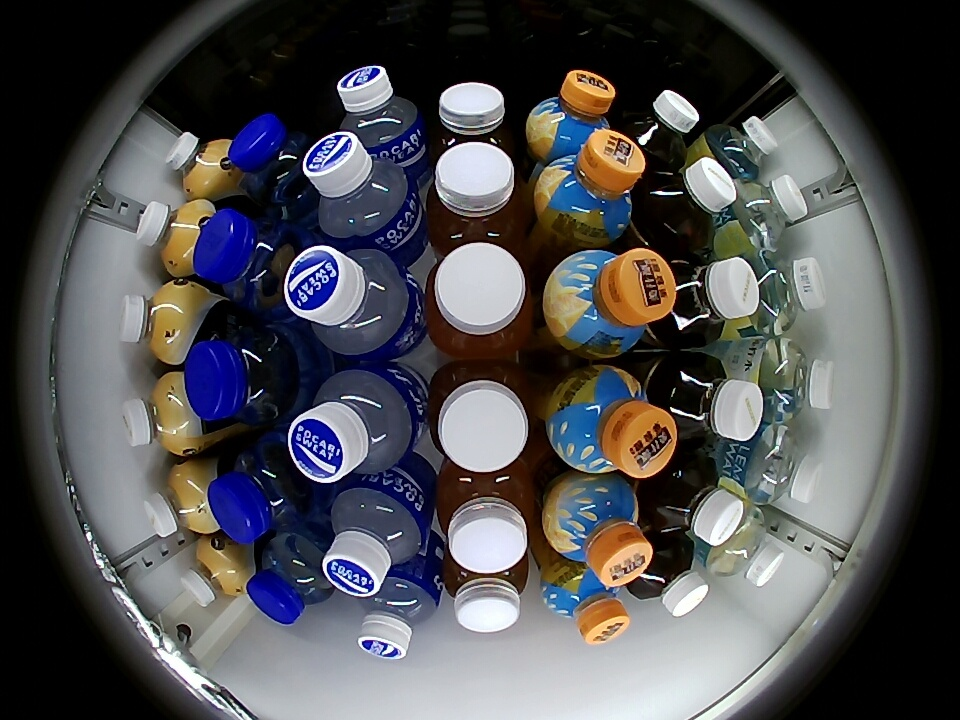asamu: (117, 282, 194, 365), (121, 374, 198, 457), (135, 199, 214, 275), (143, 463, 218, 538), (164, 130, 232, 197), (179, 540, 247, 607)
baokuangli: (287, 365, 422, 483), (284, 245, 420, 361), (301, 132, 418, 247), (321, 478, 430, 597), (337, 65, 424, 158), (358, 568, 442, 660)
chapai: (425, 243, 533, 357), (427, 361, 532, 473), (426, 142, 524, 252), (435, 465, 534, 573), (444, 552, 529, 633), (435, 82, 510, 149)
guolicheng: (546, 366, 677, 477), (545, 248, 676, 357), (533, 130, 643, 244), (544, 475, 652, 586), (527, 70, 614, 159), (540, 558, 629, 644)
maidong: (185, 321, 300, 426), (208, 438, 318, 543), (194, 209, 304, 313), (247, 532, 336, 625), (229, 114, 315, 207)
qinningshui: (758, 338, 837, 421), (743, 426, 824, 506), (748, 255, 827, 335), (728, 174, 809, 251), (706, 511, 785, 586), (707, 115, 779, 178)
wulongcha: (643, 158, 738, 253), (664, 355, 764, 444), (664, 256, 759, 349), (655, 453, 745, 546), (622, 89, 700, 169), (632, 538, 708, 618)
